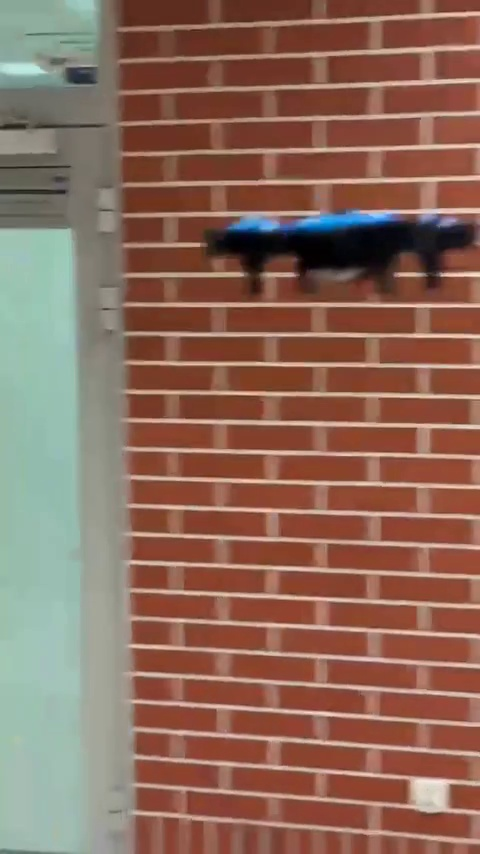drone: (203, 208, 480, 298)
